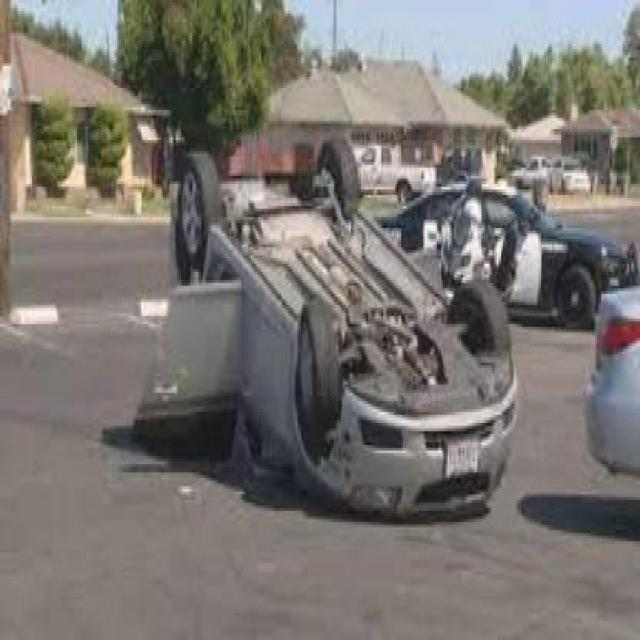accident: (163, 118, 525, 519)
